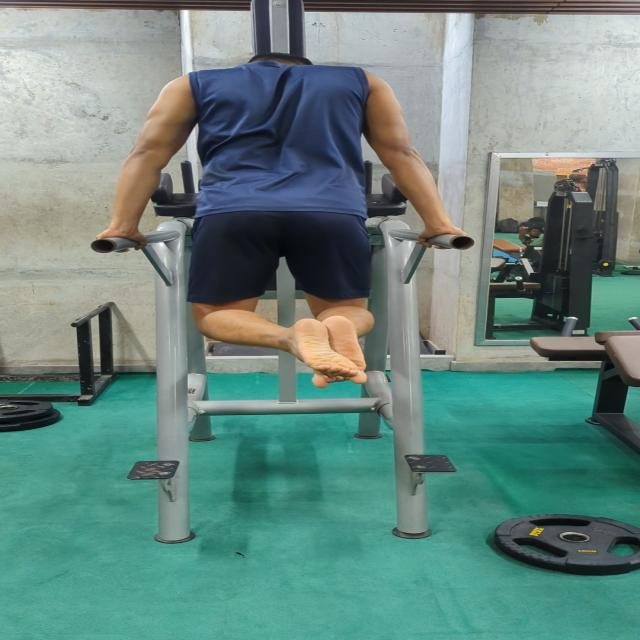Normal_Dips: (89, 45, 474, 398)
